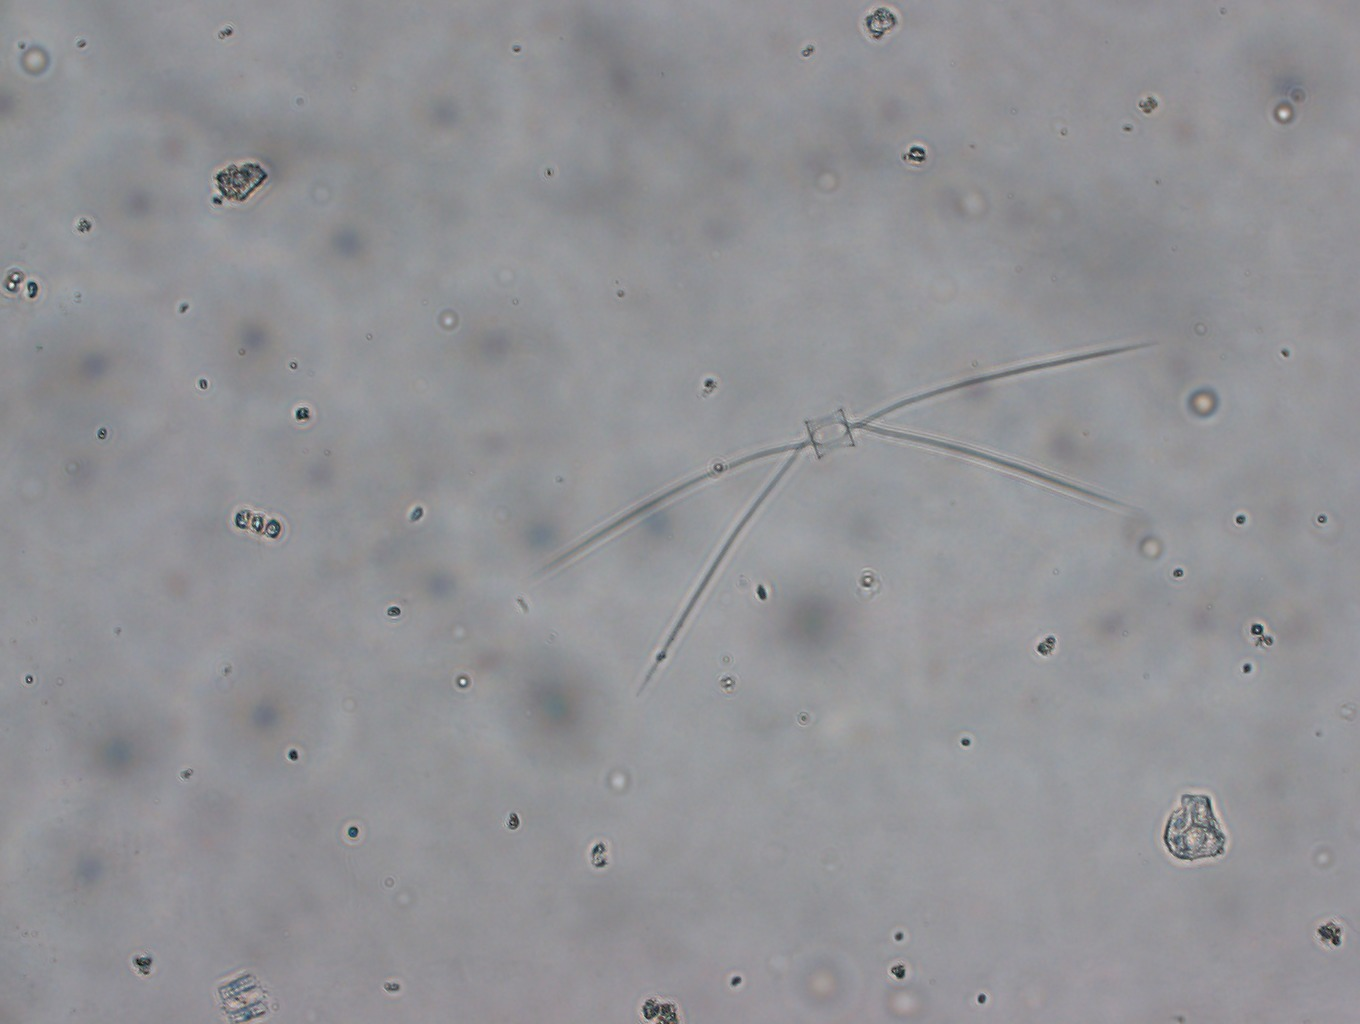chaetoceros: (536, 339, 1176, 693)
